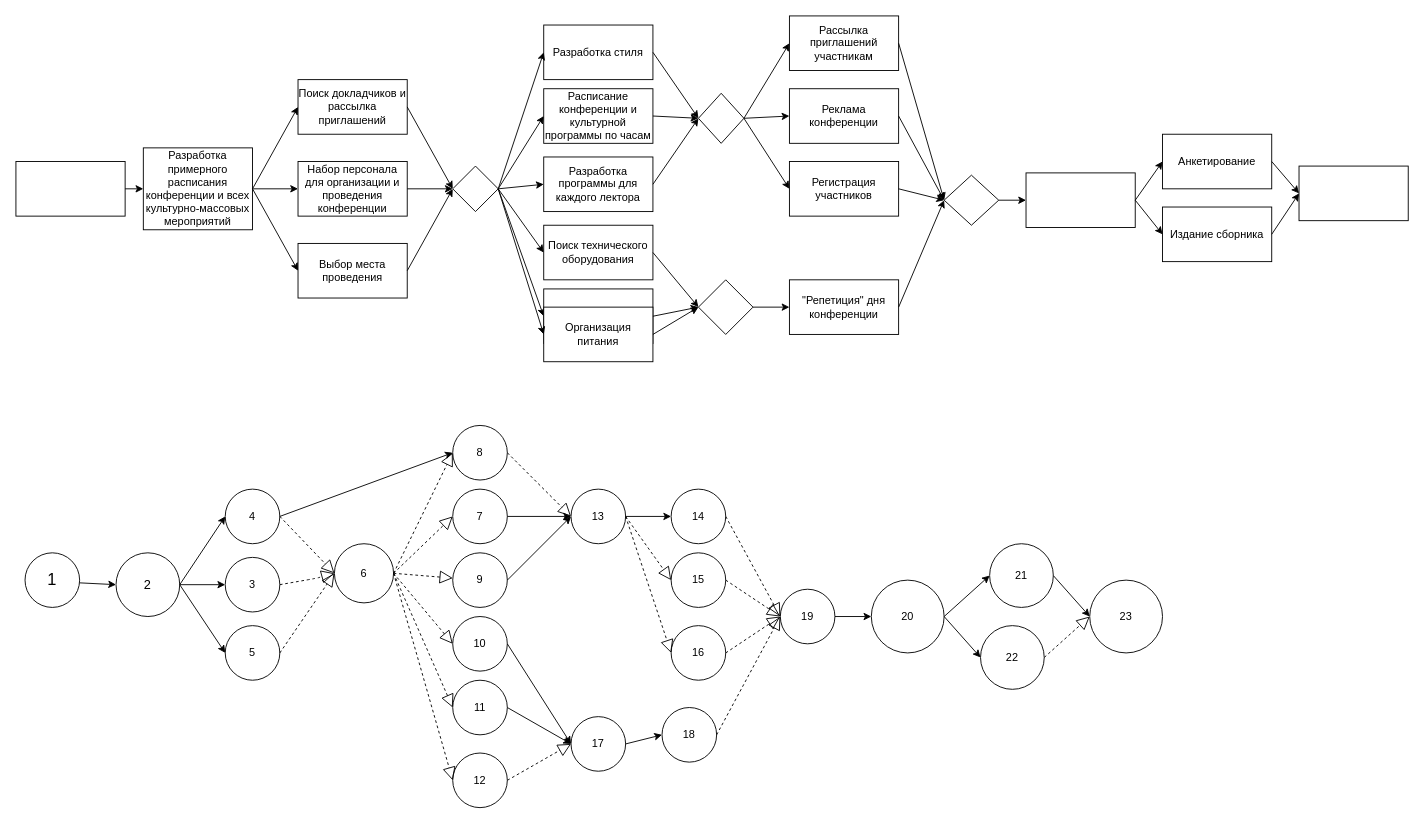
Image size: 1424x824. Some labels were removed from this diagram. Each missing label, with the centre of its shape:
"Определение темы конференции, её масштабы и финансируемость" belongs at (70,188).
"Отчёт о конференции" belongs at (1353,193).
"Проведение конференции" belongs at (1080,200).
